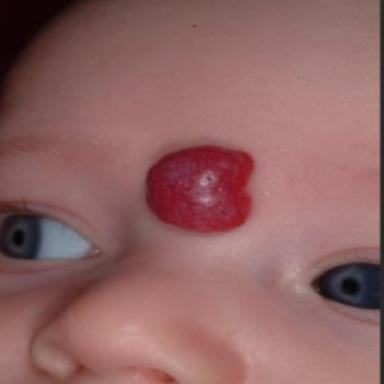Hemangiome: (146, 145, 255, 231)
